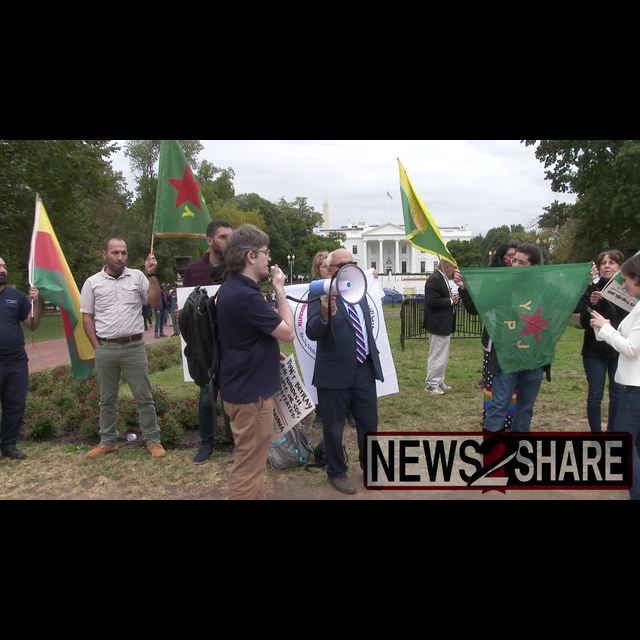YPJ: (493, 290, 557, 357)
